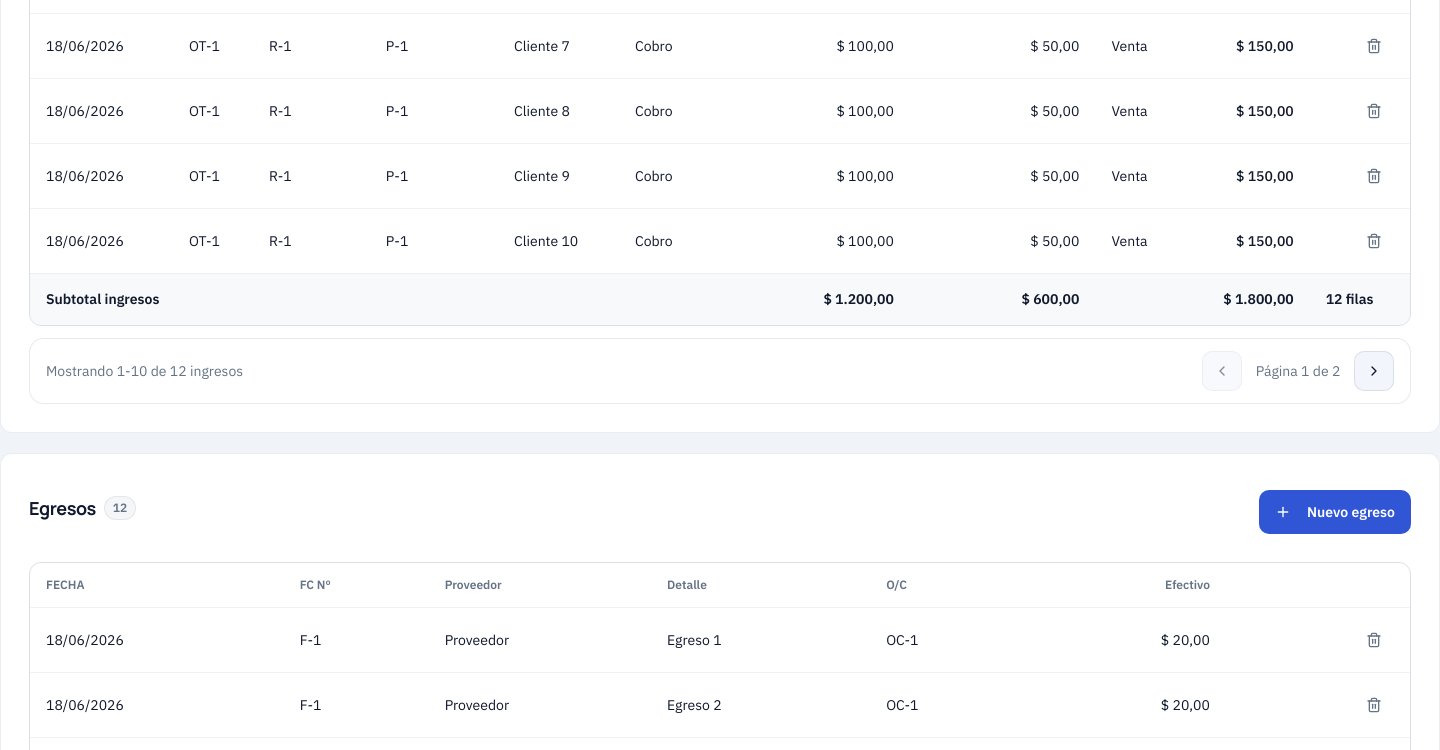
Scenario: SettlementsPage › paginates income and expense tables independently
(page scrolled)
Expected: the text "Cliente 10" is shown, [498,208,619,273]
Expected: the text "Cliente 11" is not shown
Click the button named "Pagina siguiente" at (1374, 371), box [1354,351,1394,391]
(page scrolled)
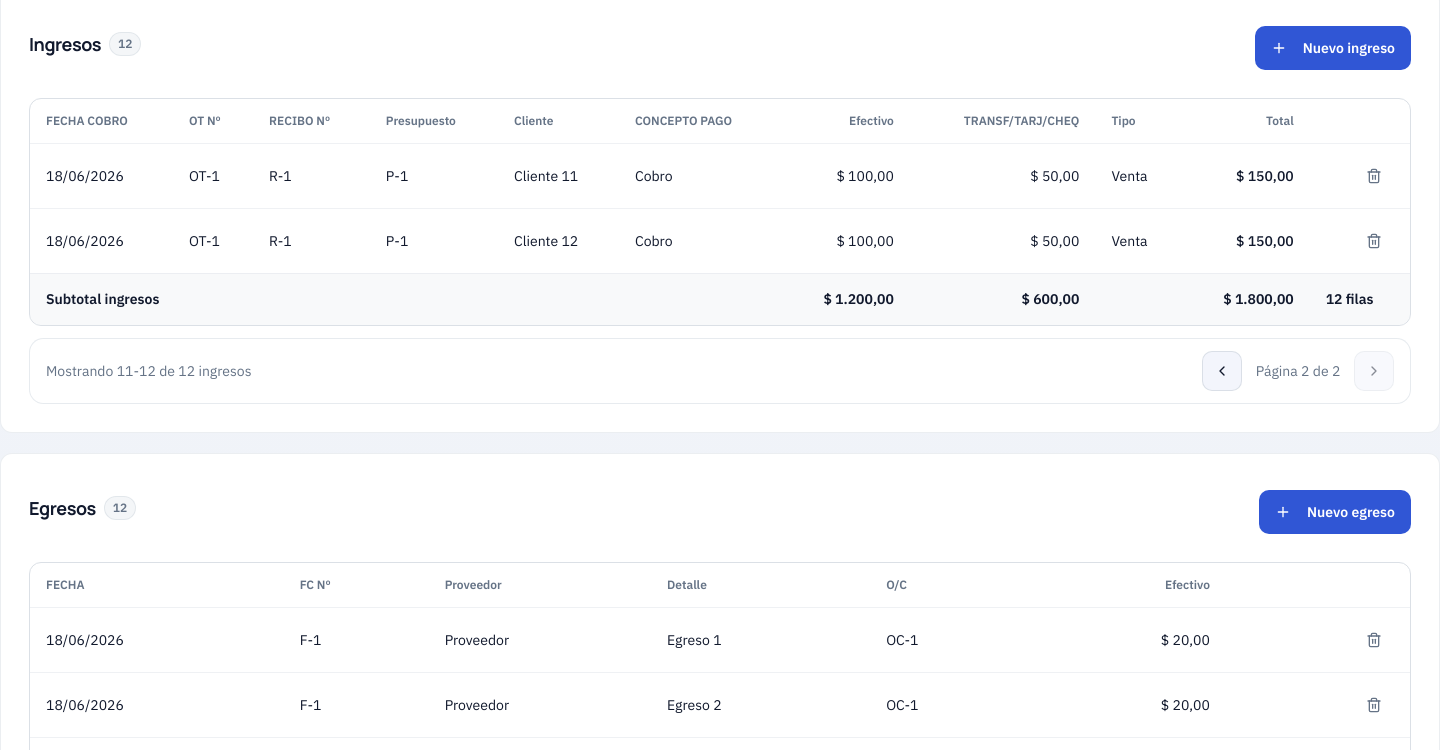
Expected: the text "Egreso 1" is shown, [651,607,870,672]
Expected: the text "Cliente 11" is shown, [498,143,619,208]
Expected: the text "Mostrando 11-12 de 12 ingresos" is shown, [46,361,252,381]
